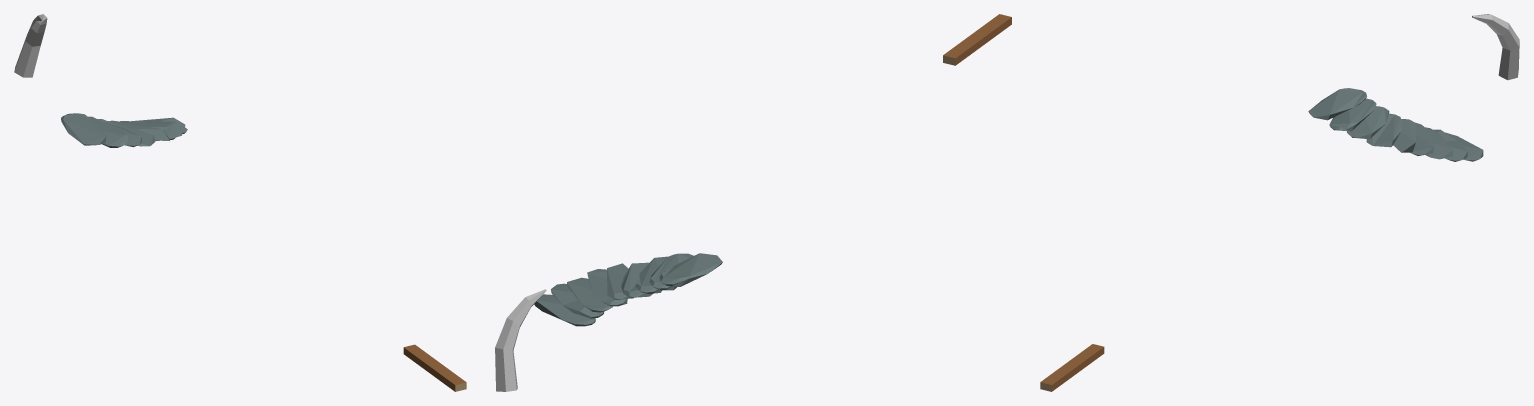
The picture shows the model from 3 angles, left to right: view 1: azimuth 30°, elevation 25°; view 2: azimuth 150°, elevation 25°; view 3: azimuth 330°, elevation 25°; orthographic projection. The views are drawn at different scales.
Parts seen in each view (by area): view 1: Line1334_grey_0, Box786_rock_0, Box15356_brown_0, Box785_rock_0; view 2: Line1334_grey_0, Box786_rock_0, Box15356_brown_0, Box787_rock_0, Box780_rock_0, Box779_rock_0, Box781_rock_0, Box782_rock_0, Box783_rock_0, Box785_rock_0, Box784_rock_0; view 3: Line1334_grey_0, Box786_rock_0, Box15356_brown_0, Box785_rock_0, Box784_rock_0, Box783_rock_0, Box782_rock_0, Box781_rock_0, Box780_rock_0, Box779_rock_0.
Boxes of the visible parts, x1,y1,x2,y2 form: Line1334_grey_0: (14, 14, 47, 77); Box786_rock_0: (61, 113, 106, 145); Box15356_brown_0: (403, 344, 466, 391); Box785_rock_0: (88, 116, 127, 147); Line1334_grey_0: (495, 289, 546, 391); Box786_rock_0: (659, 253, 722, 286); Box15356_brown_0: (943, 14, 1011, 65); Box787_rock_0: (534, 294, 595, 326); Box780_rock_0: (567, 277, 613, 312); Box779_rock_0: (551, 283, 604, 318); Box781_rock_0: (587, 269, 627, 306); Box782_rock_0: (607, 263, 633, 299); Box783_rock_0: (621, 262, 652, 297); Box785_rock_0: (649, 253, 693, 290); Box784_rock_0: (635, 256, 667, 293); Line1334_grey_0: (1472, 14, 1519, 80); Box786_rock_0: (1308, 88, 1366, 120); Box15356_brown_0: (1040, 344, 1104, 391); Box785_rock_0: (1329, 98, 1376, 131); Box784_rock_0: (1347, 106, 1389, 139); Box783_rock_0: (1366, 113, 1402, 147); Box782_rock_0: (1393, 119, 1415, 152); Box781_rock_0: (1410, 122, 1434, 155); Box780_rock_0: (1425, 127, 1452, 159); Box779_rock_0: (1433, 129, 1467, 161).
Bounding box in the file's own units: 571 × 309 × 3271.
